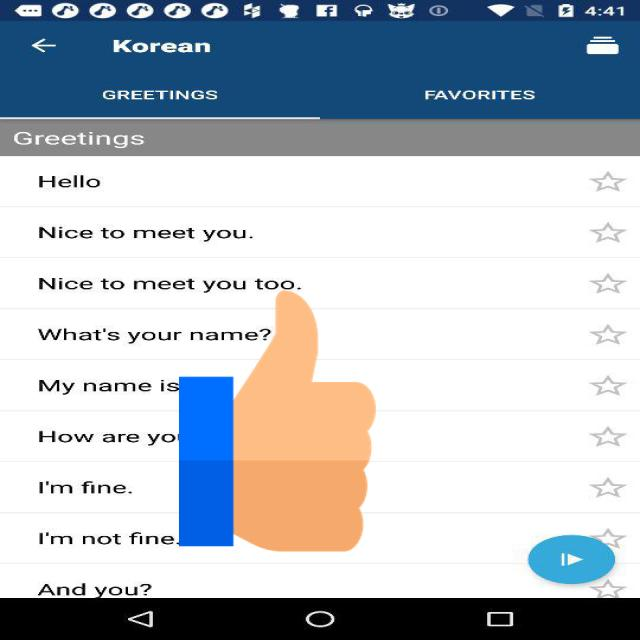privacy zuckering: (179, 284, 376, 558)
